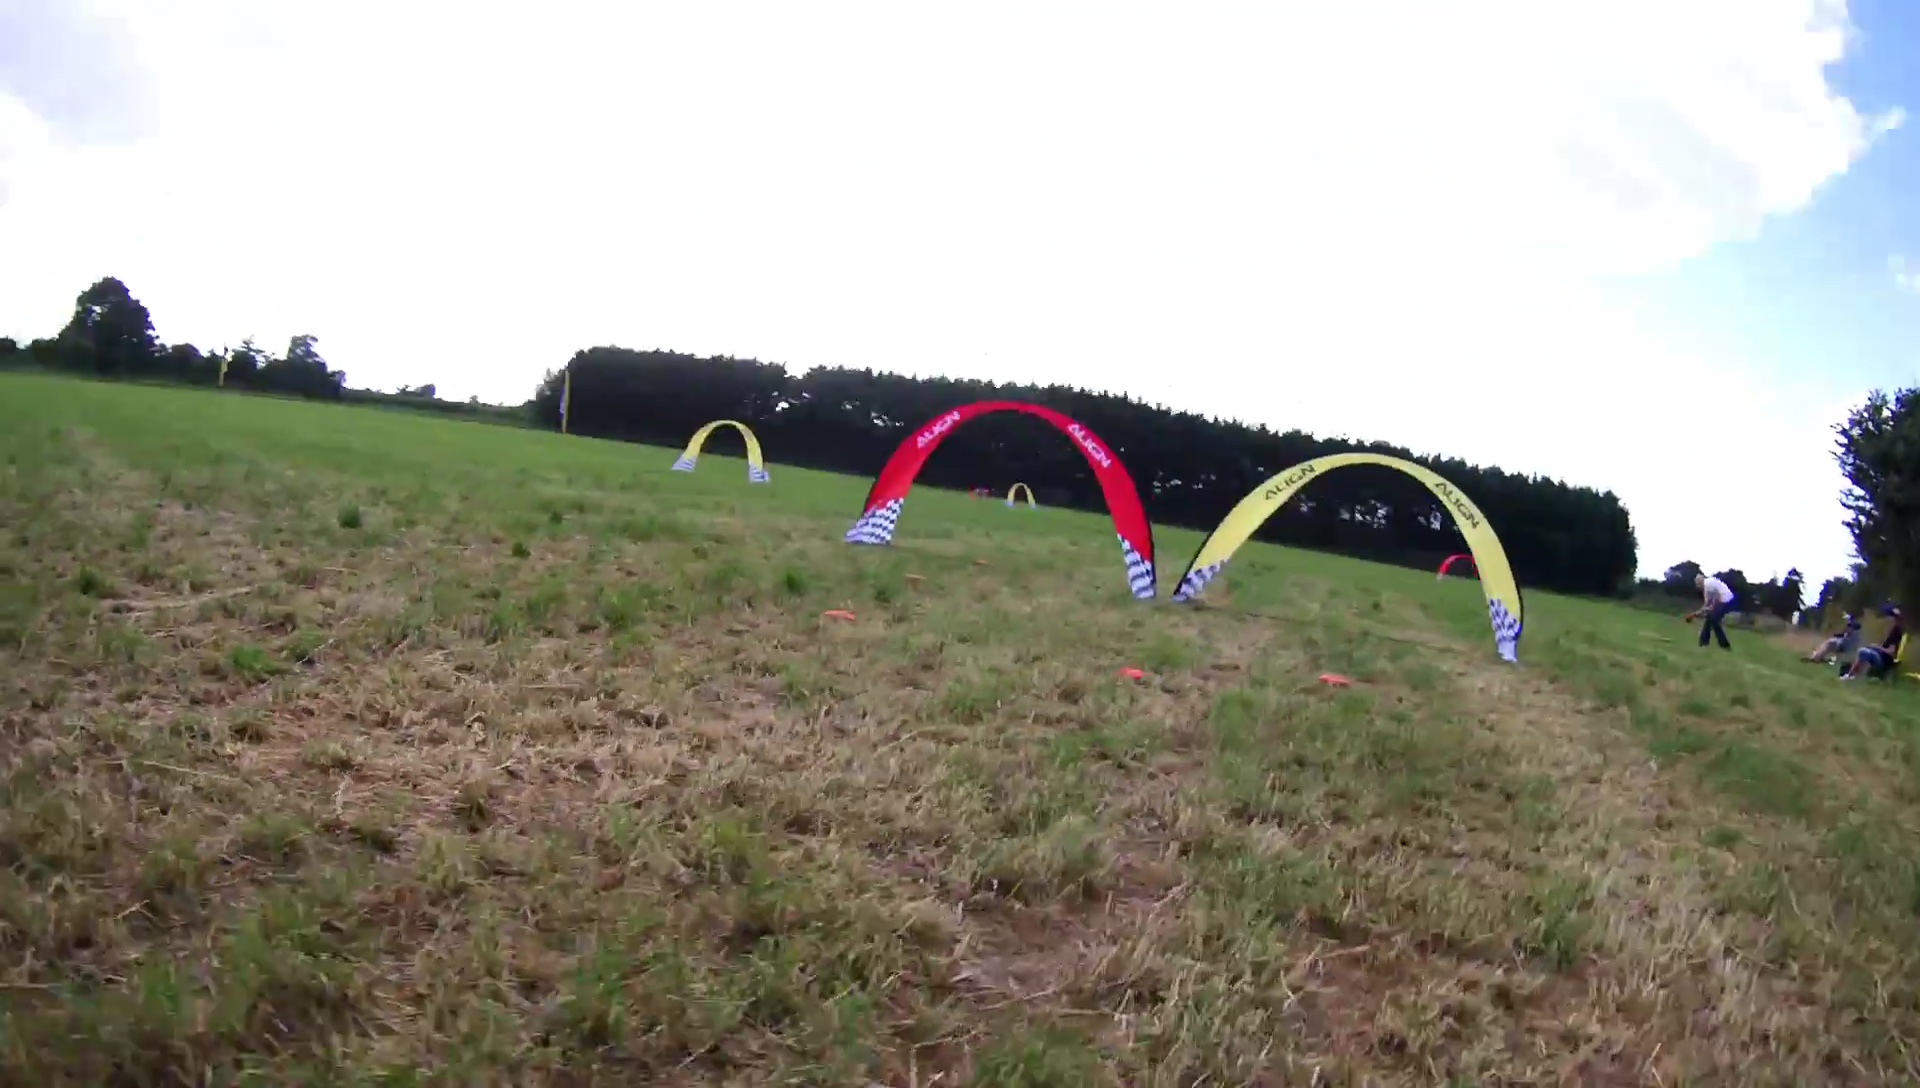gate: (1174, 450, 1527, 663), (844, 396, 1160, 601), (674, 419, 770, 481), (1005, 479, 1039, 510)
